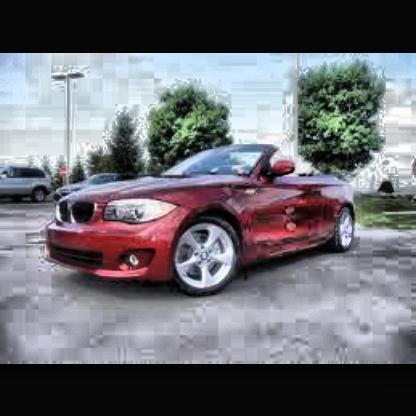BMW 1 Series Convertible 2012: (45, 147, 363, 294)
